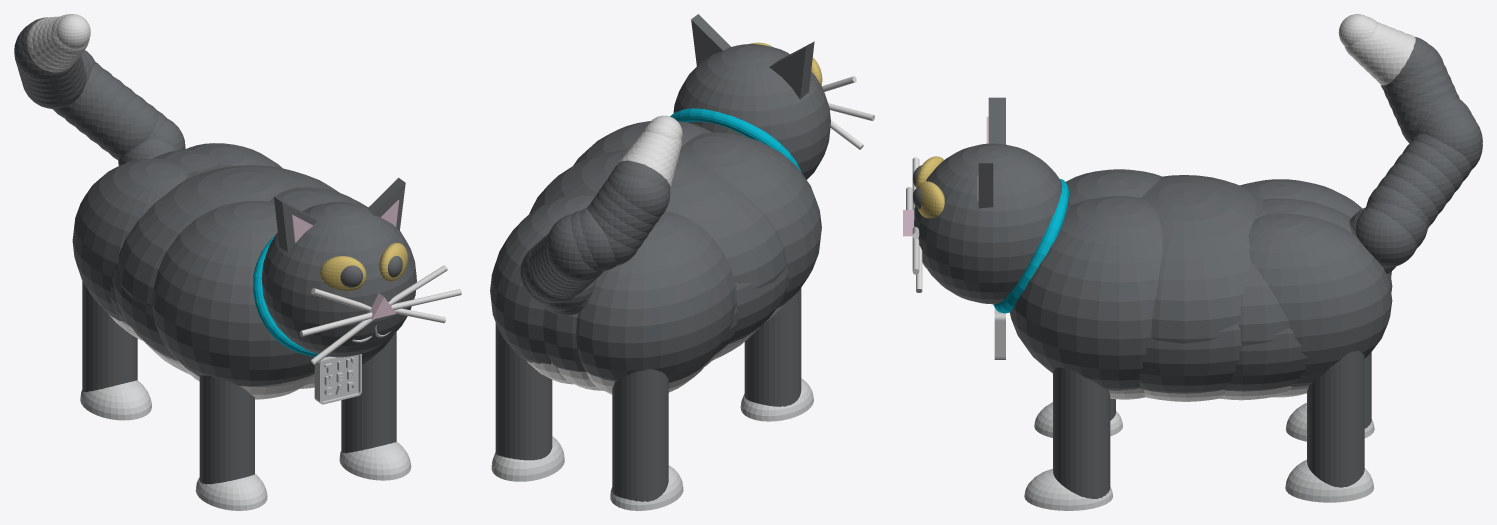
Rendered from cat.glb.
3 views of the same model, side by side, from view 1: azimuth 30°, elevation 25°; view 2: azimuth 150°, elevation 25°; view 3: azimuth 270°, elevation 25° (orthographic). The views are drawn at different scales.
Visible parts, largest first — view 1: Mesh_Mesh_head_geo.001_lambert2SG.001; view 2: Mesh_Mesh_head_geo.001_lambert2SG.001; view 3: Mesh_Mesh_head_geo.001_lambert2SG.001.
Part boxes in pixels (x1,y1,x2,y2): Mesh_Mesh_head_geo.001_lambert2SG.001: [14, 14, 461, 510]; Mesh_Mesh_head_geo.001_lambert2SG.001: [490, 14, 874, 510]; Mesh_Mesh_head_geo.001_lambert2SG.001: [903, 14, 1482, 510].
Bounding box in the file's own units: 0.0671 × 0.105 × 0.1385.
